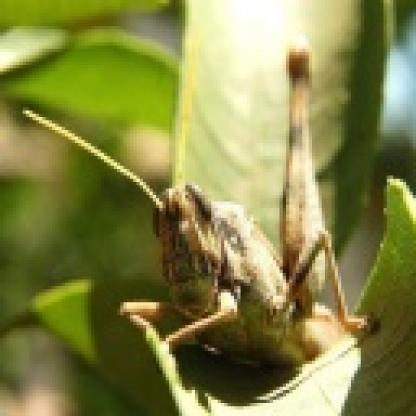grasshopper: (55, 52, 392, 340)
